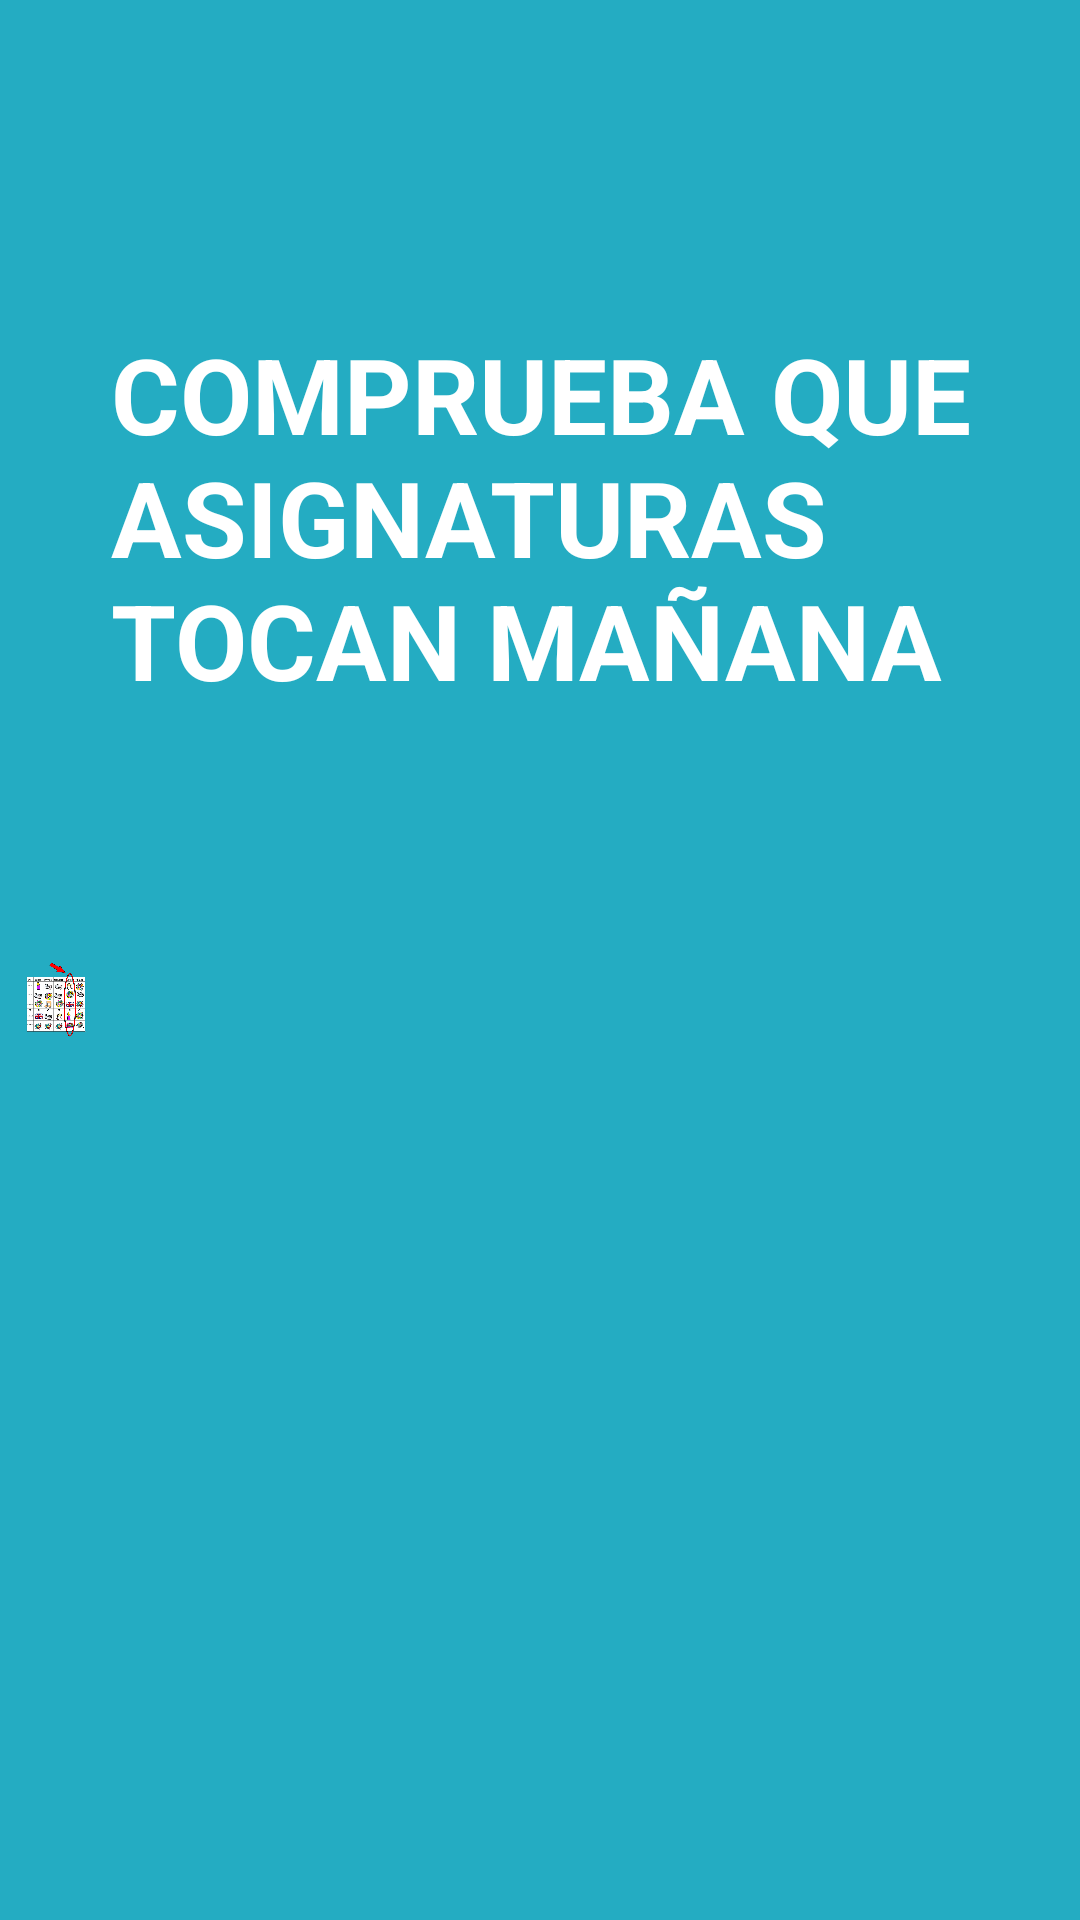

Icon bounding boxes for this 1080*1920 phone screenshot, format [left=x1, top=y1, right=x2, bottom=y2]:
asignaturasmanana: [left=27, top=963, right=86, bottom=1037]
